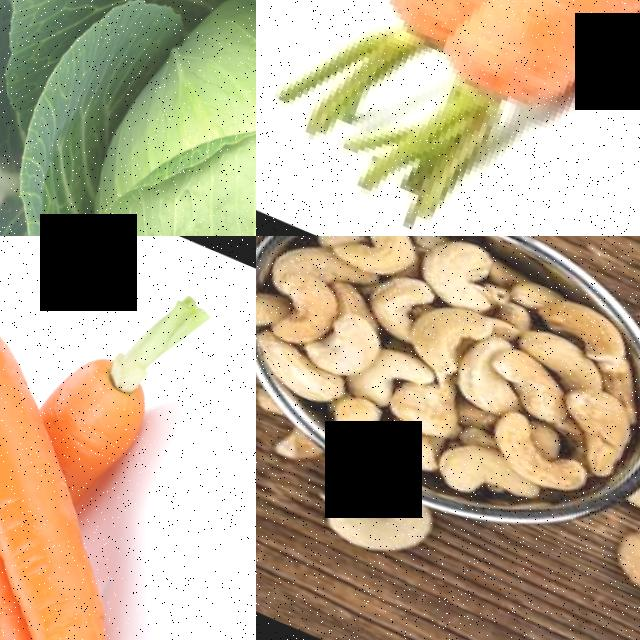cabbage: (0, 0, 256, 236)
carrot: (392, 0, 604, 209), (23, 311, 189, 492), (0, 236, 67, 407)
cashew: (299, 479, 450, 588), (424, 435, 546, 522), (390, 285, 488, 387), (300, 294, 388, 394), (522, 275, 627, 358), (480, 413, 594, 487), (407, 236, 497, 316), (547, 372, 636, 444), (330, 236, 425, 292), (593, 501, 640, 591), (299, 455, 383, 503), (256, 413, 324, 464)
